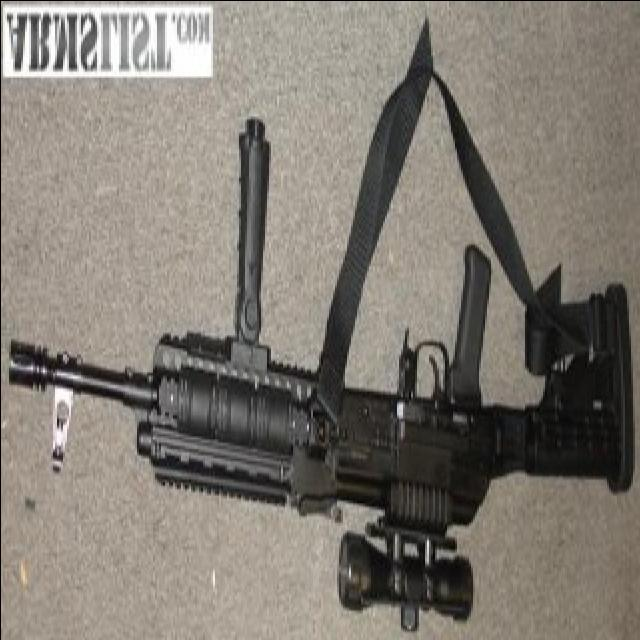rifle: (7, 279, 639, 636)
